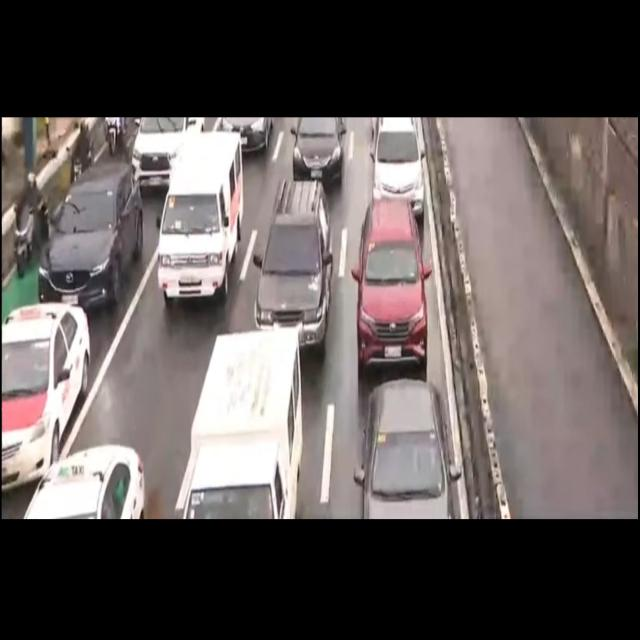Motorcycle: (8, 169, 48, 275), (64, 116, 97, 180)
Pick-up: (174, 318, 307, 518), (154, 134, 244, 306)
SUV: (35, 163, 145, 302), (254, 184, 329, 348), (355, 197, 426, 364), (372, 117, 423, 221)
Sedan: (0, 288, 93, 490), (353, 370, 462, 517), (24, 442, 148, 517), (131, 116, 204, 182), (293, 118, 347, 180), (211, 118, 274, 156)
